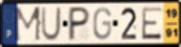2: (120, 7, 138, 42)
E: (141, 6, 163, 41)
G: (92, 7, 113, 42)
M: (14, 6, 43, 43)
P: (67, 6, 92, 43)
U: (40, 6, 63, 43)
